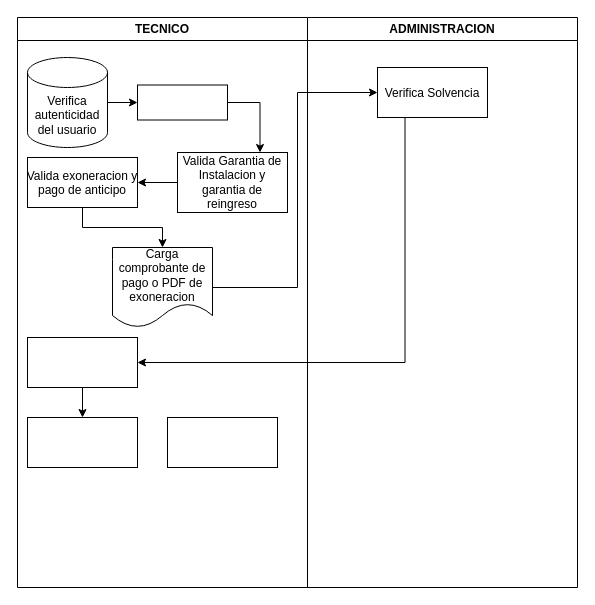
Some shapes in this 595 by 605 pixel diagram are drawn without their labels. Here are the shapes that lost their labels. From the top down, the centre of each, then its label:
pixel 182 102: Clasifica falla
pixel 82 362: Envia al rosal
pixel 82 442: Verificar Estatus taller
